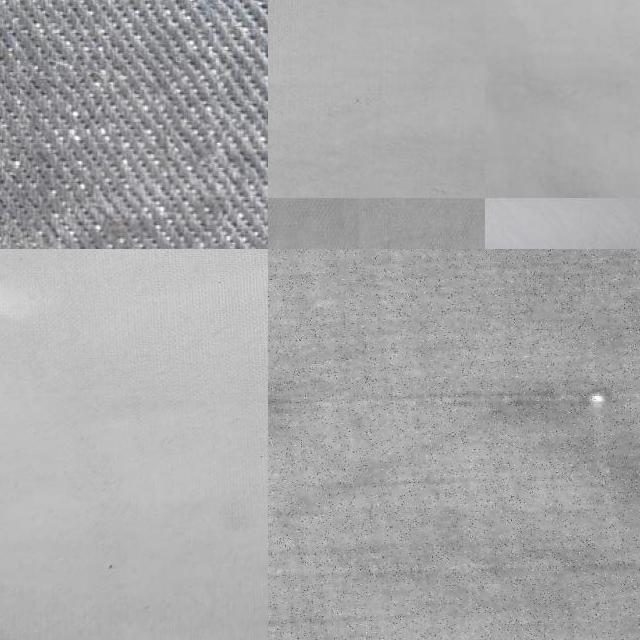Thread_other: (159, 249, 268, 274), (484, 224, 536, 249)
other: (542, 345, 640, 454), (620, 458, 623, 460)
